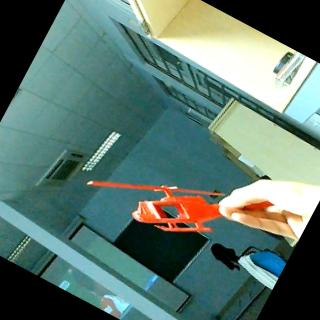Helicopter: (80, 134, 236, 256)
